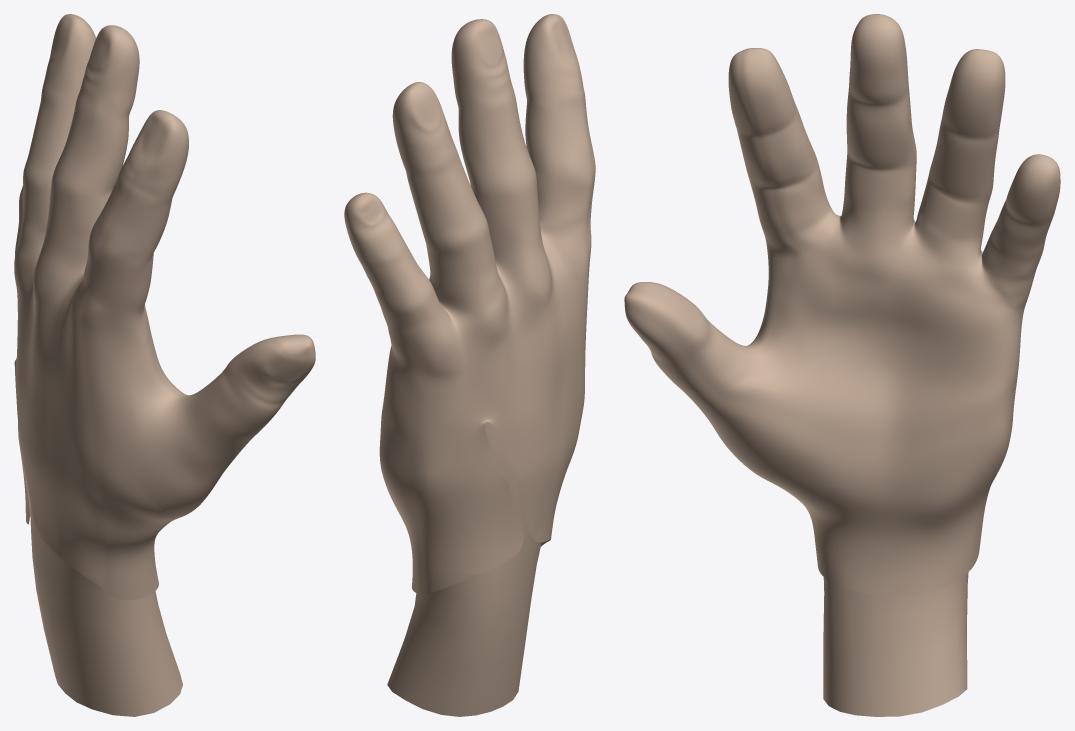
File: LOV 4.glb
The picture shows the model from 3 angles, left to right: view 1: azimuth 30°, elevation 25°; view 2: azimuth 150°, elevation 25°; view 3: azimuth 270°, elevation 25°; orthographic projection.
Parts seen in each view (by area): view 1: gloves, hand; view 2: gloves, hand; view 3: gloves, hand.
Part boxes in pixels (box(x1,y1,x2,y2)): gloves: box(14, 14, 315, 600); hand: box(30, 504, 182, 716); gloves: box(344, 14, 595, 595); hand: box(387, 421, 541, 716); gloves: box(624, 14, 1060, 595); hand: box(823, 572, 968, 716).
Size of the model in its own units: 0.648 by 2.59 by 1.51.
